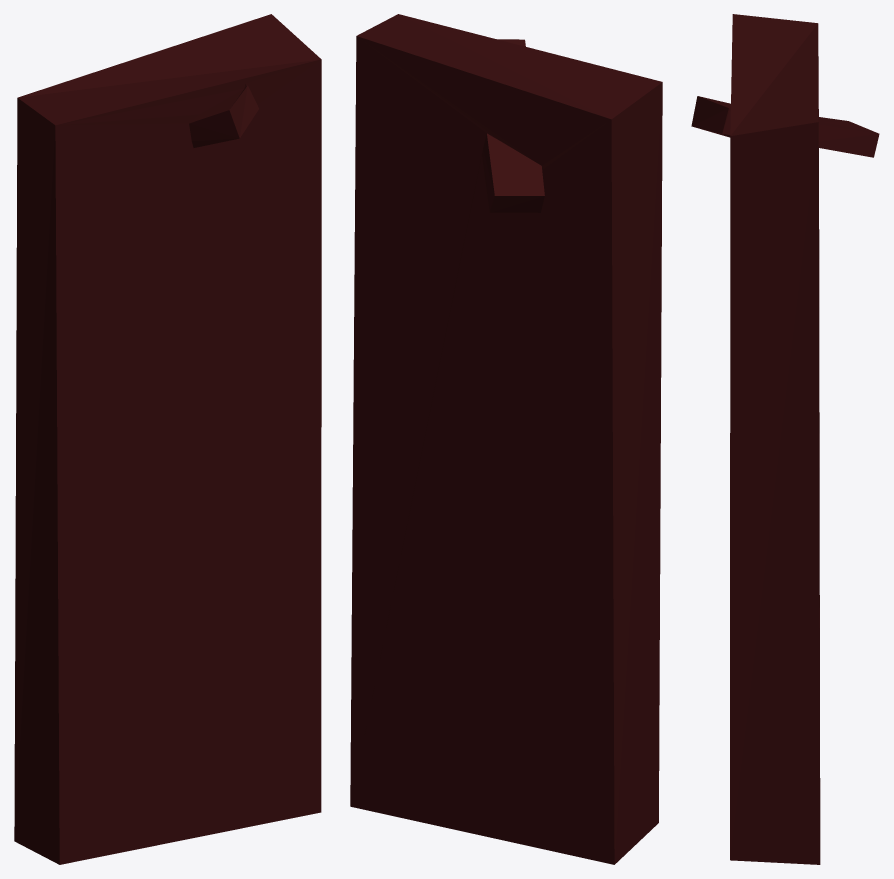
The picture shows the model from 3 angles, left to right: view 1: azimuth 30°, elevation 25°; view 2: azimuth 150°, elevation 25°; view 3: azimuth 270°, elevation 25°; orthographic projection. The views are drawn at different scales.
Parts seen in each view (by area): view 1: 449_Cube.1820; view 2: 449_Cube.1820; view 3: 449_Cube.1820.
Part boxes in pixels (<box>): 449_Cube.1820: <box>14,14,321,864</box>; 449_Cube.1820: <box>350,14,662,864</box>; 449_Cube.1820: <box>691,14,879,864</box>.
Bounding box in the file's own units: 4.39 × 12.12 × 2.79.
